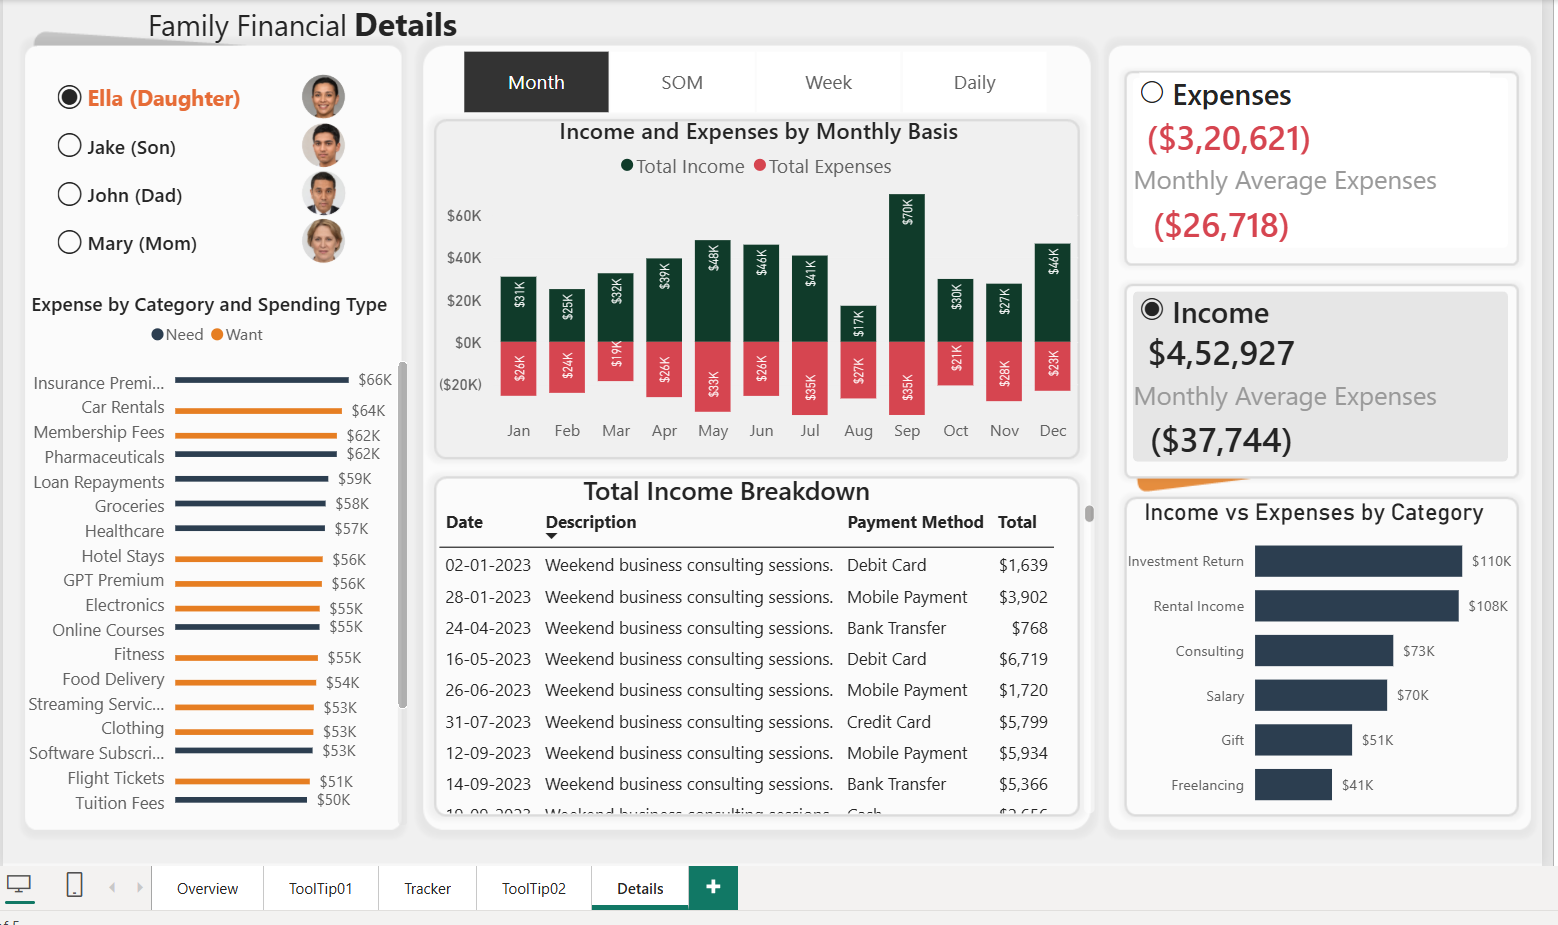

What the dashboard file says about the page in this screenshot:
{"tool":"powerbi","page":{"name":"Details","canvas":[1280,720],"ordinal":4},"visuals":[{"type":"actionButton","box":[939.1,242.1,311.8,141.9],"z":0},{"type":"actionButton","box":[939.1,242.1,311.8,141.9],"z":1000},{"type":"actionButton","box":[939.1,64.6,311.8,141.9],"z":2000},{"type":"listSlicer","fields":{"Values":["FactTable.Type"]},"box":[928.6,40.6,323.2,253.5],"z":3000},{"type":"columnChart","title":"Income and Expenses by Monthly Basis","fields":{"Category":["Date.Month"],"Y":["1DAX_Calaculation.Total Income","1DAX_Calaculation.Reversed Total Expenses"]},"box":[362.3,95.9,531.4,276.4],"z":4000},{"type":"clusteredBarChart","title":"Expense by Category and Spending Type","fields":{"Category":["Category Table.Category"],"Series":["FactTable.Spending Type"],"Y":["1DAX_Calaculation.Total Expense"]},"box":[0,241.1,346.1,444.8],"z":5000},{"type":"listSlicer","fields":{"Values":["Img.Full Name"]},"box":[34.3,40.7,282.8,192.8],"z":6000},{"type":"slicer","fields":{"Values":["Group Date.Group Date"]},"box":[362.5,40.6,524,55],"z":7000},{"type":"card","fields":{"Values":["1DAX_Calaculation.Total Income"]},"box":[925.8,264.4,173.6,59.6],"z":8000},{"type":"card","fields":{"Values":["1DAX_Calaculation.Reversed Total Expenses"]},"box":[926.4,84.9,186.3,59.6],"z":9000},{"type":"textbox","box":[925.8,134.3,280.1,34.2],"z":10000},{"type":"textbox","box":[925.8,313.5,280.1,34.2],"z":11000},{"type":"card","fields":{"Values":["1DAX_Calaculation.Reverse Monthly Avg Expenses"]},"box":[926.4,158.4,173.6,59.6],"z":12000},{"type":"card","fields":{"Values":["1DAX_Calaculation.Reverse Montly Avg Income"]},"box":[925.8,337.1,173.6,59.6],"z":13000},{"type":"clusteredBarChart","fields":{"Category":["FactTable.Category"],"Y":["1DAX_Calaculation.Income vs Expenses"]},"box":[926.4,414.4,328.2,261.1],"z":14000},{"type":"tableEx","fields":{"Values":["Date.Date","FactTable.Description","FactTable.Payment Method","1DAX_Calaculation.Income vs Expenses"]},"box":[346,414.4,561.4,271.2],"z":15000},{"type":"card","fields":{"Values":["1DAX_Calaculation.Table Title"]},"box":[362.5,396.7,477.8,24],"z":16000},{"type":"textbox","box":[120.6,1,304.5,38.5],"z":16001}]}

Visuals, with their boxes on the page's 1280x720 design canvas (x1, y1, x2, y2). These are canvas units, not pixel positions in the 1558x925 screenshot, which may show the page scaled, cropped or inside an application window:
actionButton: bbox=[939, 242, 1251, 384]
actionButton: bbox=[939, 242, 1251, 384]
actionButton: bbox=[939, 65, 1251, 206]
listSlicer - FactTable.Type: bbox=[929, 41, 1252, 294]
"Income and Expenses by Monthly Basis" columnChart: bbox=[362, 96, 894, 372]
"Expense by Category and Spending Type" clusteredBarChart: bbox=[0, 241, 346, 686]
listSlicer - Img.Full Name: bbox=[34, 41, 317, 234]
slicer - Group Date.Group Date: bbox=[362, 41, 886, 96]
card - 1DAX_Calaculation.Total Income: bbox=[926, 264, 1099, 324]
card - 1DAX_Calaculation.Reversed Total Expenses: bbox=[926, 85, 1113, 144]
textbox: bbox=[926, 134, 1206, 168]
textbox: bbox=[926, 314, 1206, 348]
card - 1DAX_Calaculation.Reverse Monthly Avg Expenses: bbox=[926, 158, 1100, 218]
card - 1DAX_Calaculation.Reverse Montly Avg Income: bbox=[926, 337, 1099, 397]
clusteredBarChart - FactTable.Category x 1DAX_Calaculation.Income vs Expenses: bbox=[926, 414, 1255, 676]
tableEx - Date.Date x FactTable.Description: bbox=[346, 414, 907, 686]
card - 1DAX_Calaculation.Table Title: bbox=[362, 397, 840, 421]
textbox: bbox=[121, 1, 425, 40]
